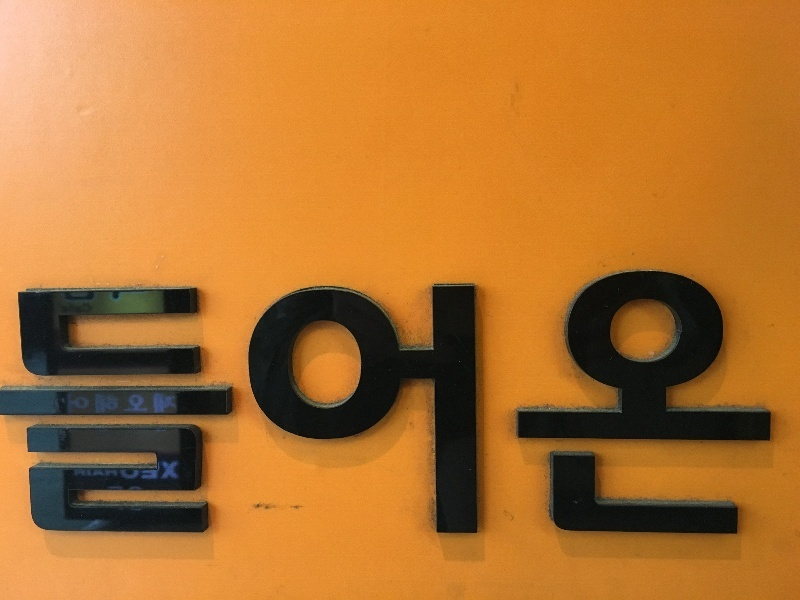text: (1, 263, 16, 545), (17, 263, 32, 545), (33, 263, 48, 545), (49, 263, 64, 545), (65, 263, 80, 545), (81, 263, 96, 545), (97, 263, 112, 545), (113, 263, 128, 545), (129, 263, 144, 545), (145, 263, 160, 545), (161, 263, 176, 545), (177, 263, 192, 545), (193, 263, 208, 545), (209, 263, 224, 545), (225, 263, 240, 545), (241, 263, 256, 545), (257, 263, 272, 545), (273, 263, 288, 545), (289, 263, 304, 545), (305, 263, 320, 545), (321, 263, 336, 545), (337, 263, 352, 545), (353, 263, 368, 545), (369, 263, 384, 545), (385, 263, 400, 545), (401, 263, 416, 545), (417, 263, 432, 545), (433, 263, 448, 545), (449, 263, 464, 545), (465, 263, 480, 545), (481, 263, 496, 545), (497, 263, 512, 545), (513, 263, 528, 545), (529, 263, 544, 545), (545, 263, 560, 545), (561, 263, 576, 545), (577, 263, 592, 545), (593, 263, 608, 545), (609, 263, 624, 545), (625, 263, 640, 545), (641, 263, 656, 545), (657, 263, 672, 545), (673, 263, 688, 545), (689, 263, 704, 545), (705, 263, 720, 545), (721, 263, 736, 545), (737, 263, 752, 545), (753, 263, 768, 545), (769, 263, 779, 545), (65, 392, 80, 414), (81, 392, 96, 414), (97, 392, 112, 414), (113, 392, 128, 414), (129, 392, 144, 414), (145, 392, 160, 414), (161, 392, 176, 414), (161, 461, 176, 480), (81, 469, 96, 481), (97, 469, 112, 481), (113, 469, 128, 481), (129, 469, 144, 481), (145, 469, 158, 481), (73, 469, 80, 481), (113, 485, 128, 490), (129, 485, 144, 490), (177, 461, 179, 480), (177, 392, 178, 414), (108, 485, 112, 490)
